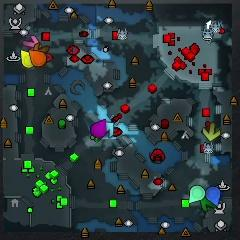p1: (205, 187, 220, 207)
p2: (189, 185, 205, 204)
p3: (91, 119, 106, 138)
p4: (20, 50, 34, 68)
p5: (28, 50, 46, 67)
x1: (24, 35, 40, 47)
x2: (203, 123, 220, 141)
x3: (104, 122, 114, 137)
x4: (201, 198, 215, 212)
x5: (33, 43, 49, 52)
